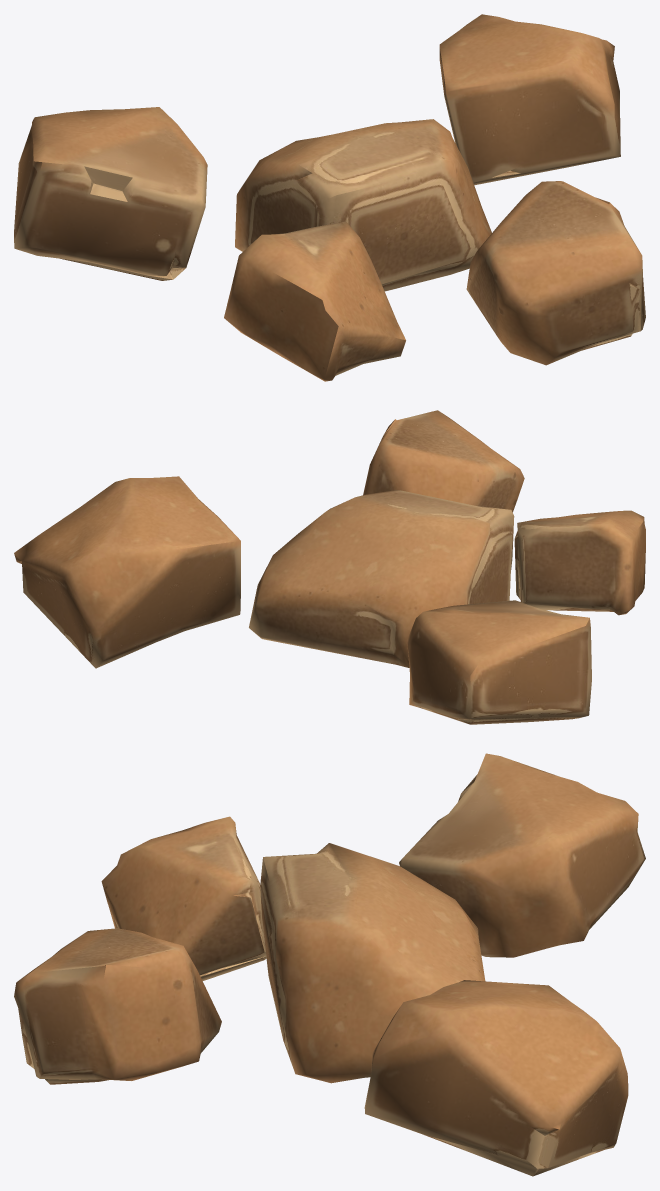
The model's file is rubble_c.glb.
3 renders of one model, top to bottom at view 1: azimuth 30°, elevation 25°; view 2: azimuth 150°, elevation 25°; view 3: azimuth 270°, elevation 25°, orthographic. The views are drawn at different scales.
Parts seen in each view (by area): view 1: rubble_c; view 2: rubble_c; view 3: rubble_c.
Boxes of the visible parts, left/top/right/bottom form: rubble_c: left=14, top=14, right=645, bottom=381; rubble_c: left=14, top=410, right=645, bottom=724; rubble_c: left=14, top=753, right=645, bottom=1176.
Bounding box in the file's own units: 0.8803 × 0.1979 × 0.727.
1 material, 1 textured.
